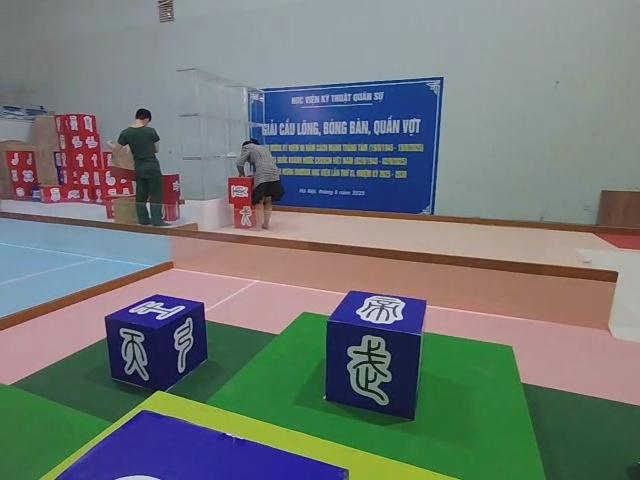R2 Fake Blue: (323, 293, 426, 424), (103, 294, 208, 392)
